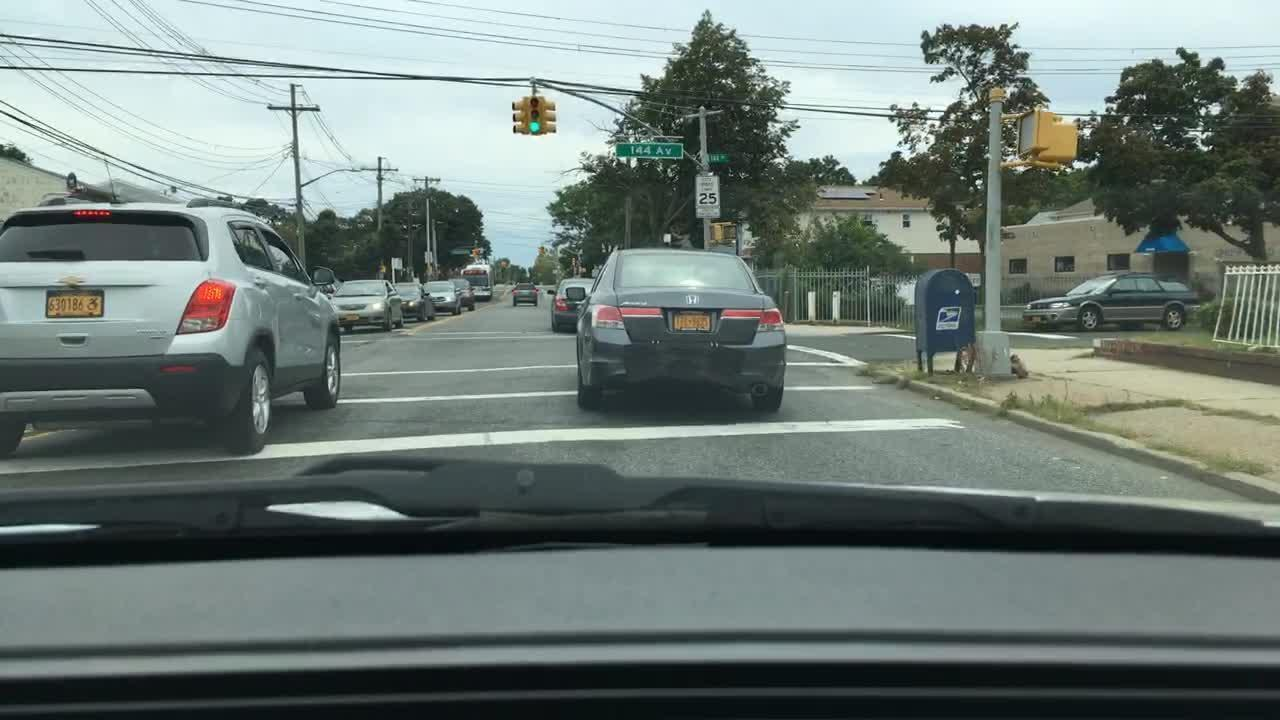Honda: (682, 289, 704, 314)
chevrolet: (50, 269, 91, 293)
